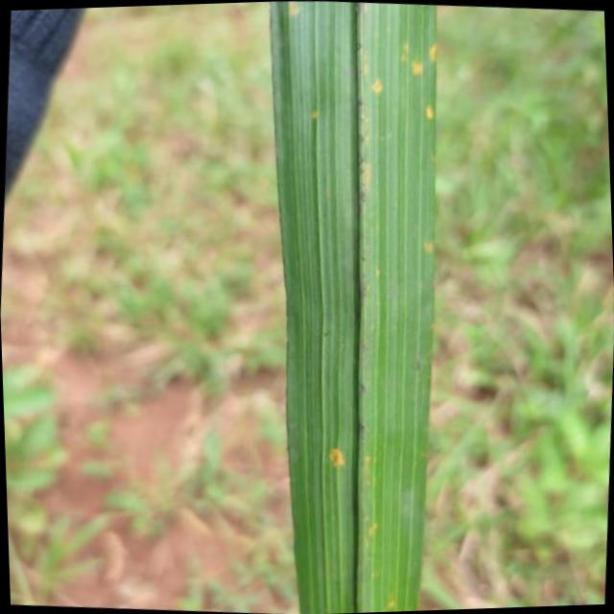Kalium: (269, 0, 441, 608)
